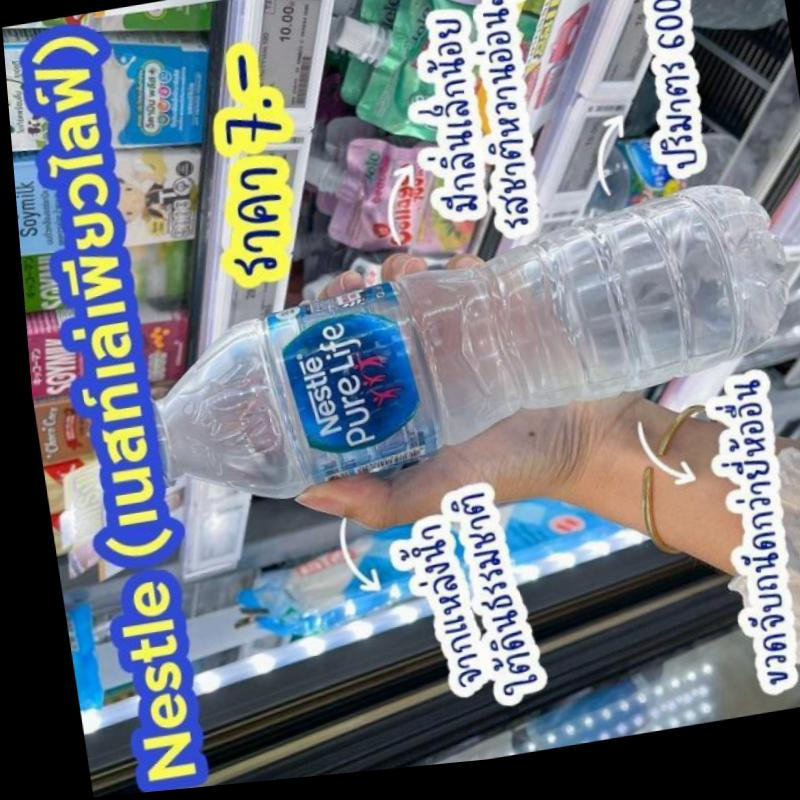botella: (117, 191, 800, 522)
